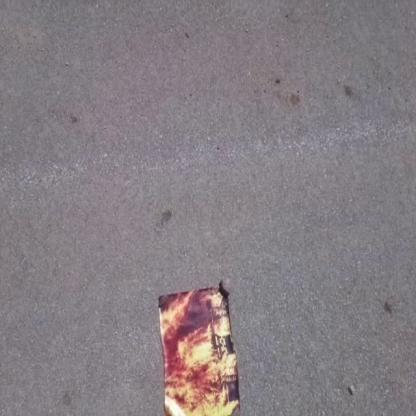fire-poster: (156, 279, 241, 415)
